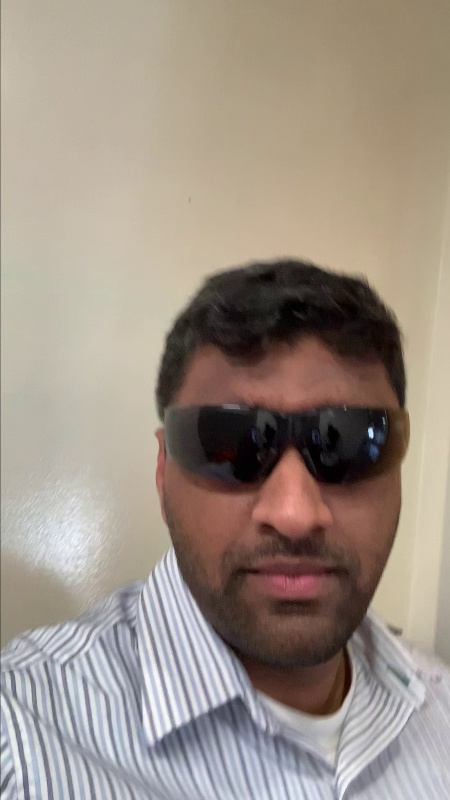glasses: (151, 389, 421, 497)
